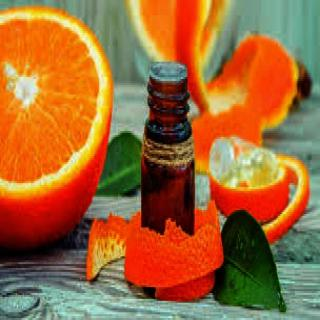orange: (0, 5, 116, 267), (210, 130, 288, 242)
